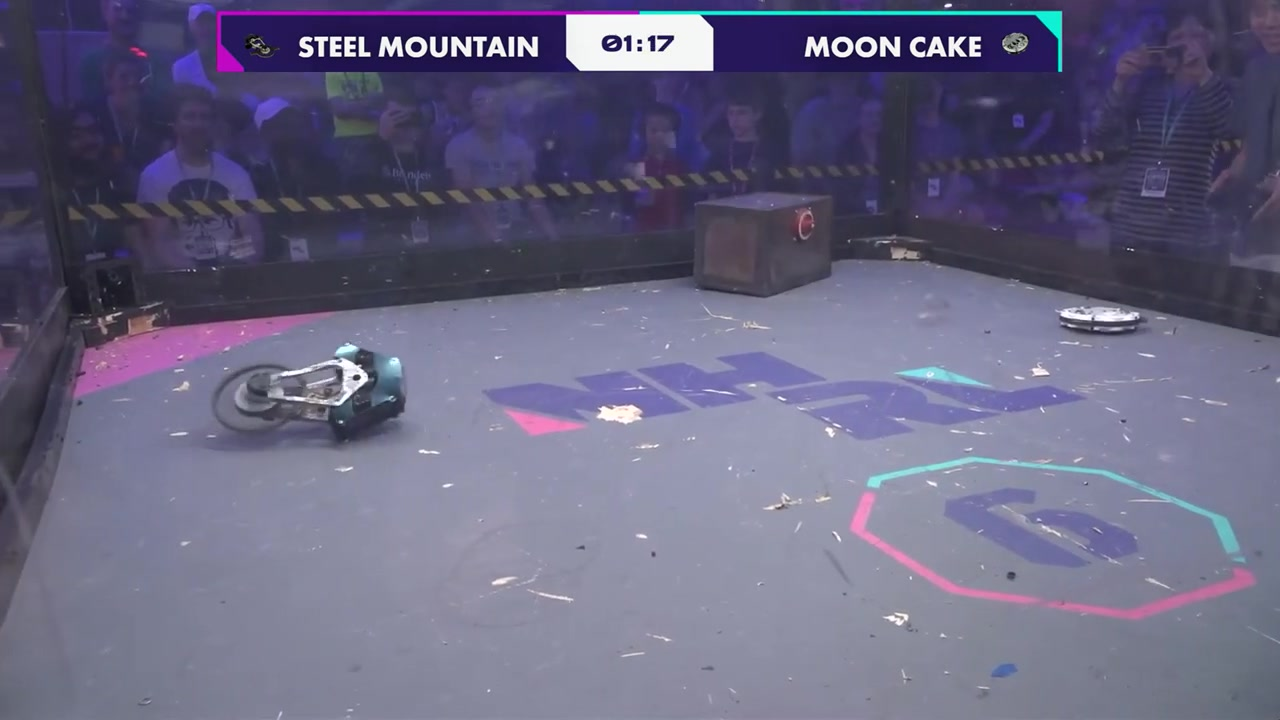combatbot: (212, 342, 409, 446), (1054, 302, 1146, 335)
housebot: (695, 192, 833, 300)
